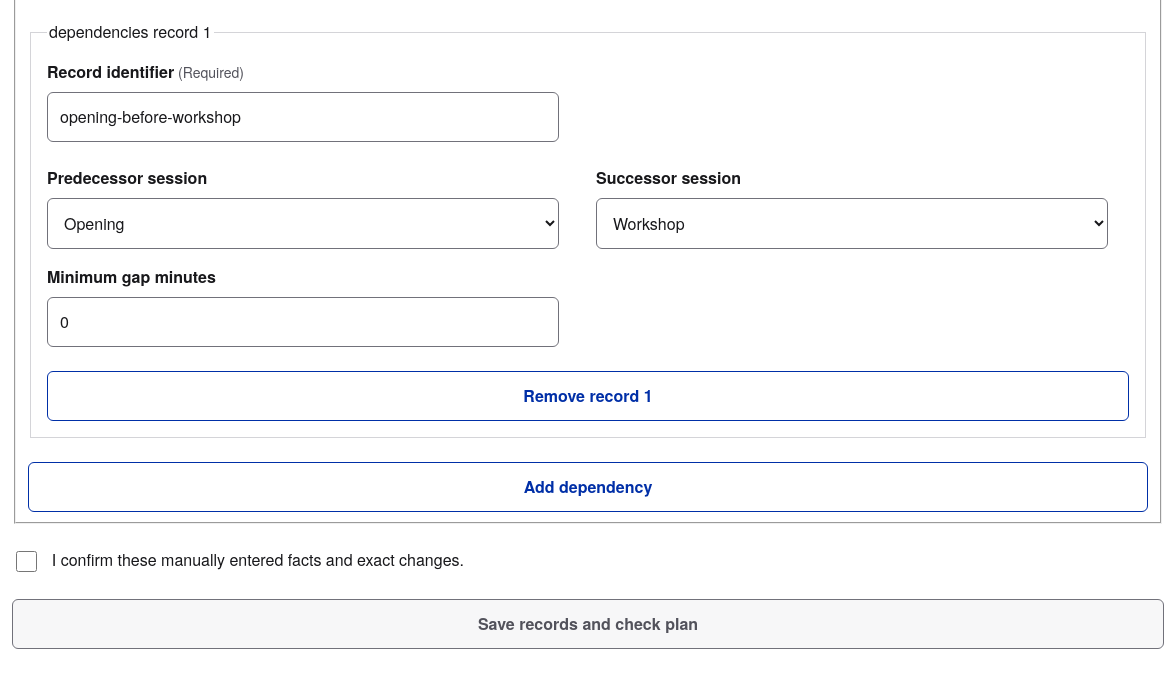
Test: shows saved candidate checks and blocks initial confirmation when invalid
This screenshot has width=1176, height=673.
(page scrolled)
What coordinates should you click on to do the following:
click the checkbox labelled "I confirm these manually entered facts and exact changes."
I would click on:
 (26, 561)
Its box is [16,551,37,572].
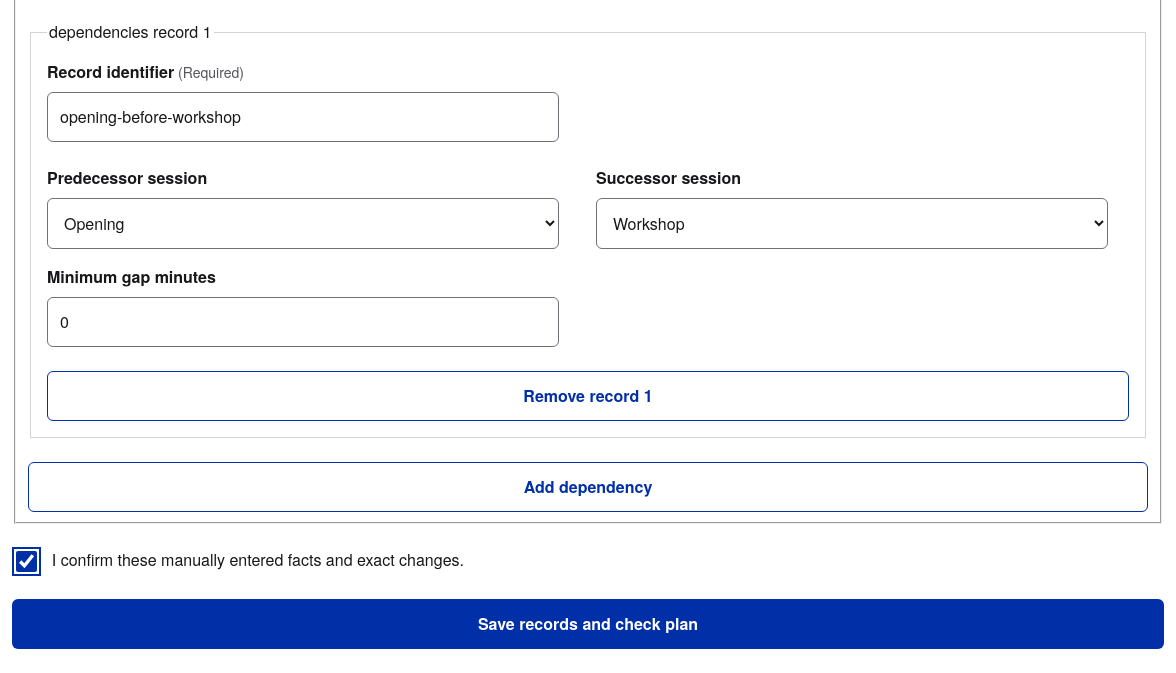
What coordinates should you click on to do the following:
click the button "Save records and check plan"
I would click on:
 (588, 624)
Its box is [12,599,1164,649].
(page scrolled)
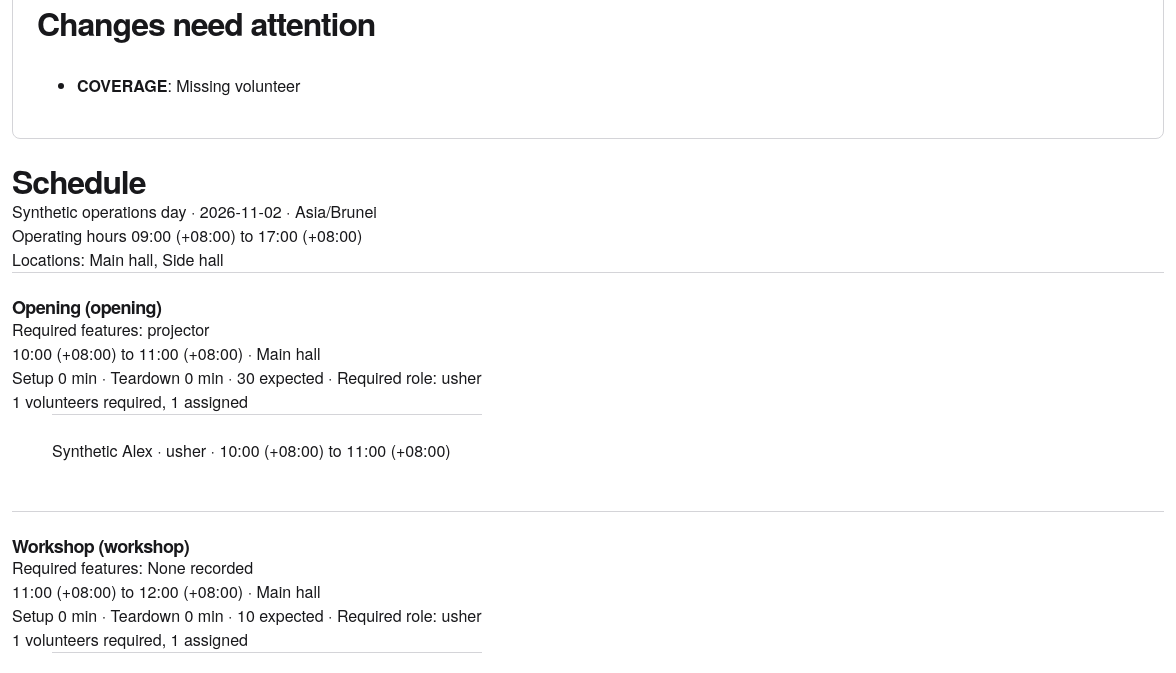
Expected: the list item "COVERAGE: Missing volunteer" is shown, [77,74,300,97]
Expected: the text "Required features: projector" is shown, [12,318,210,341]
